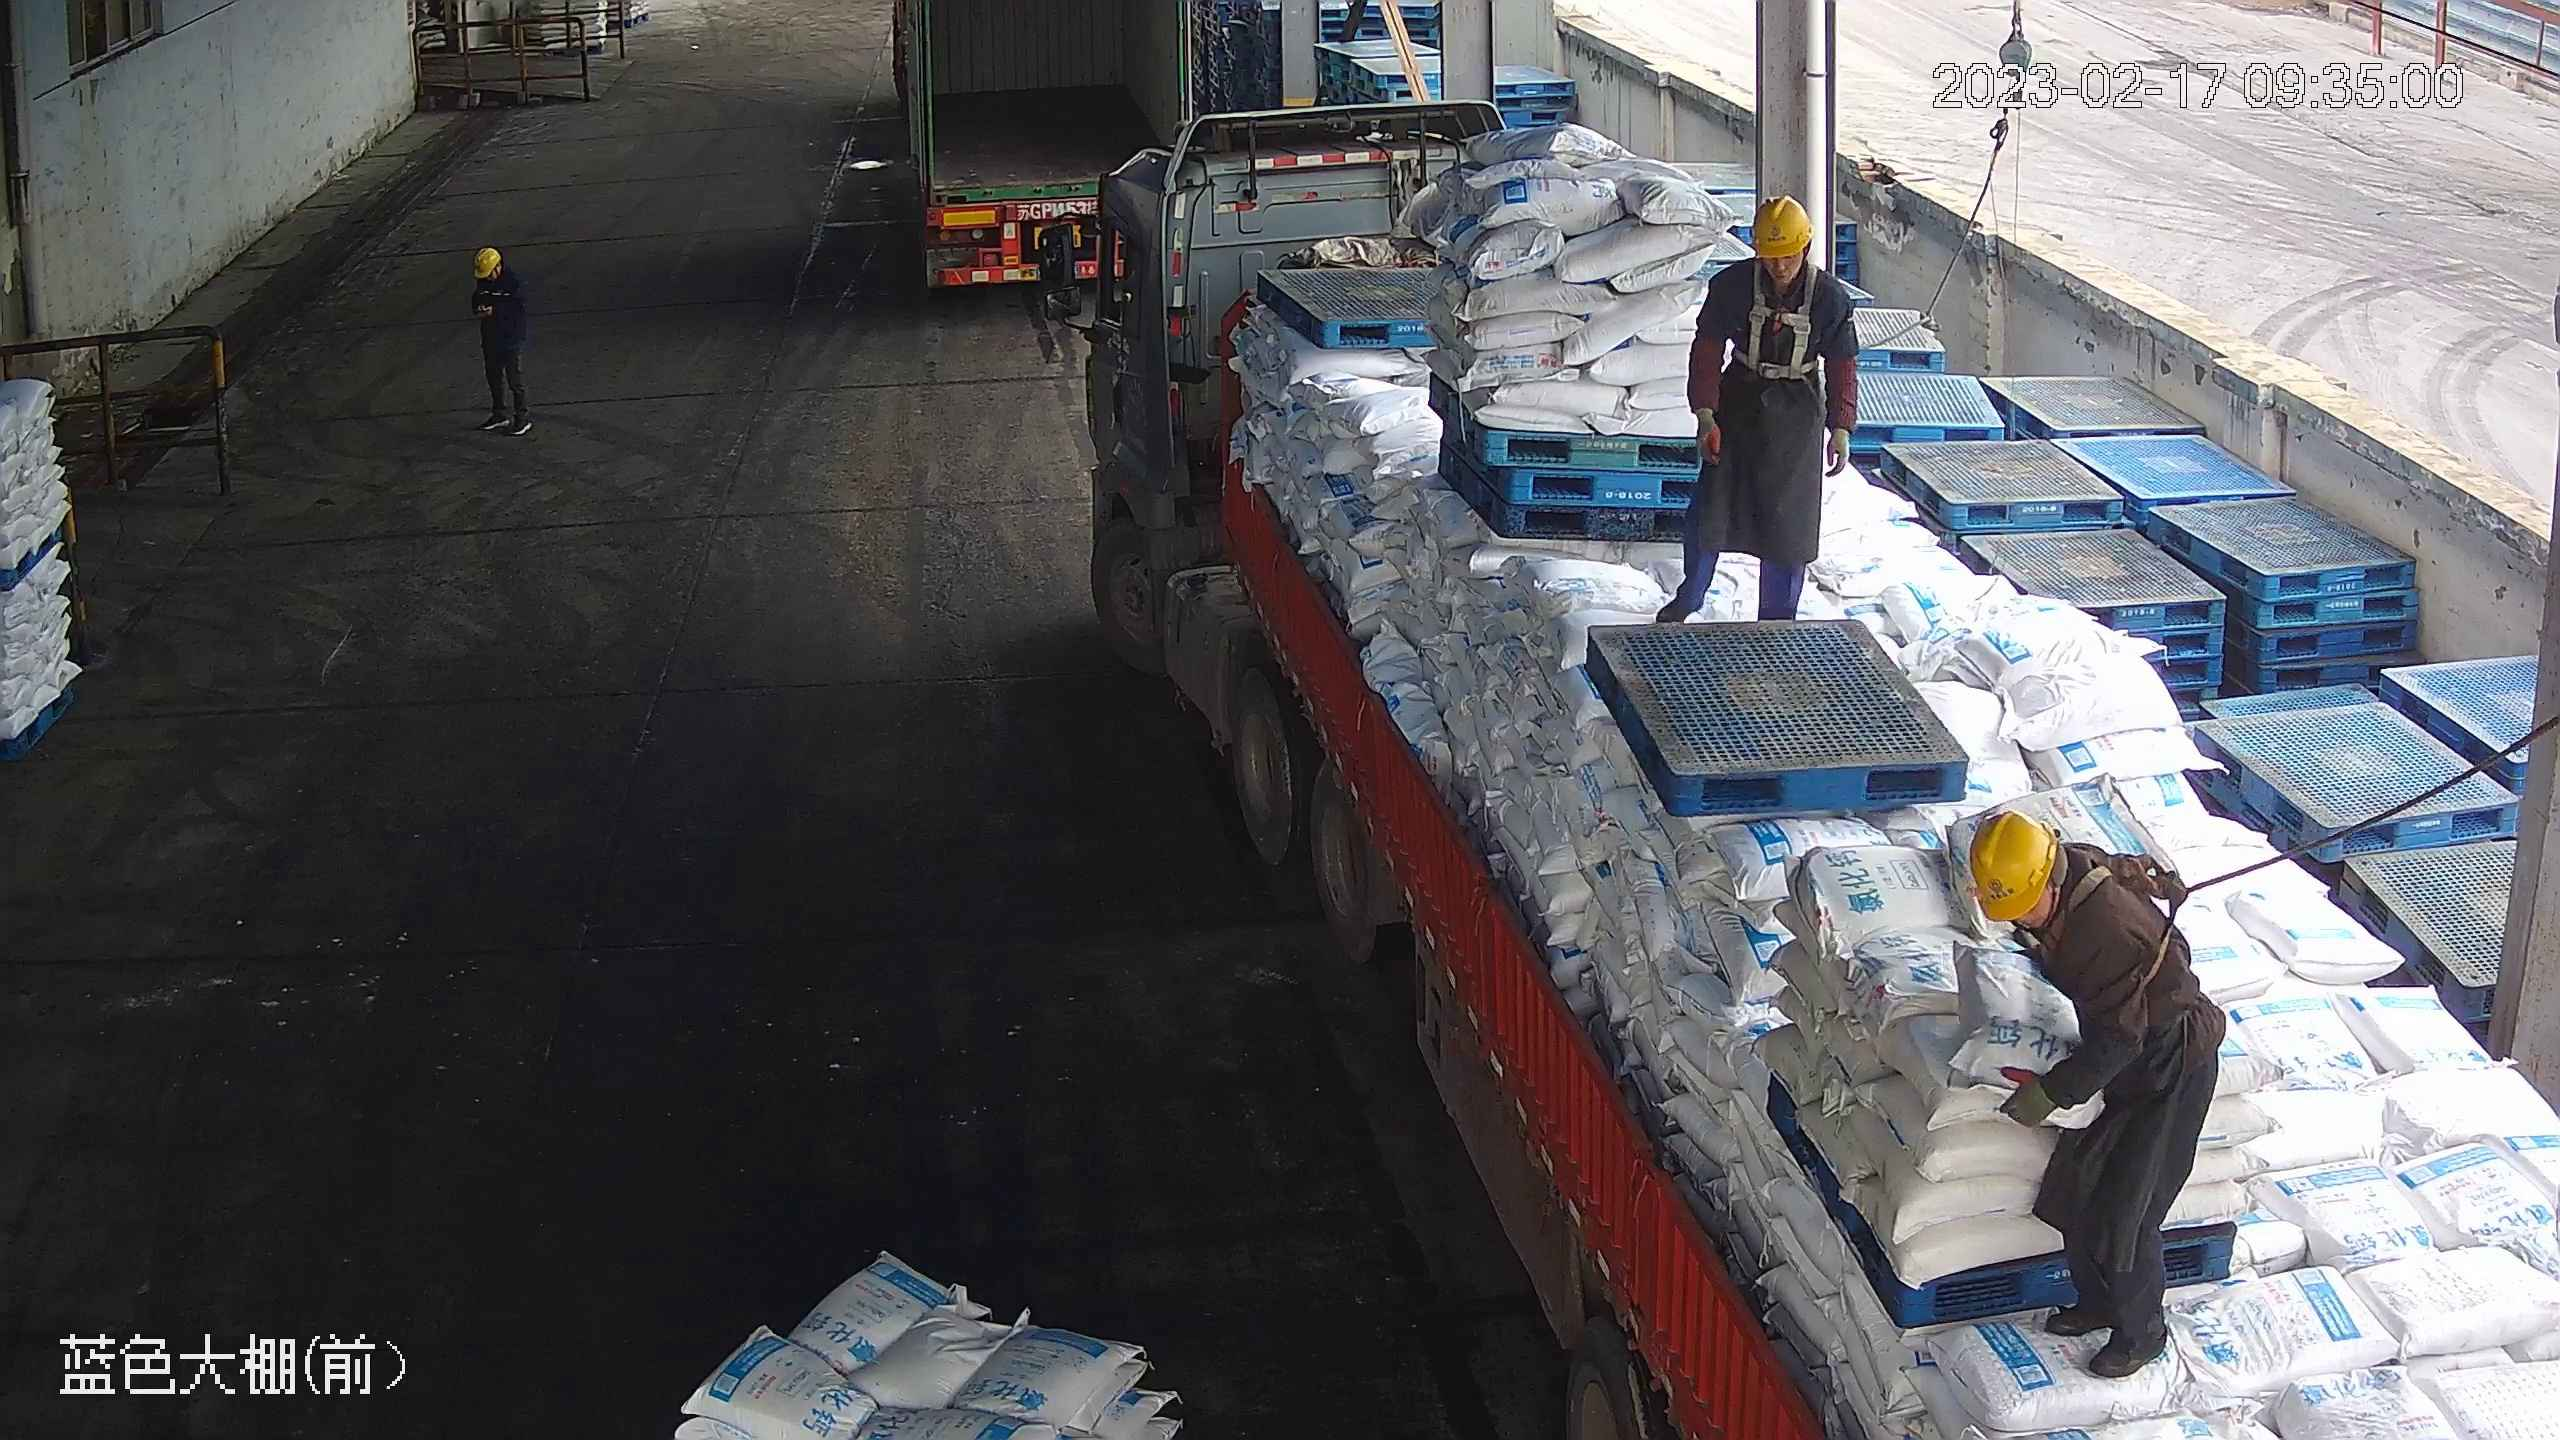belt: (2038, 846, 2188, 998), (1740, 259, 1824, 379)
head: (1966, 809, 2165, 981), (1704, 194, 1850, 319), (469, 245, 525, 301)
helmet: (1968, 808, 2058, 922), (1750, 193, 1816, 256), (471, 246, 500, 275)
people: (1963, 809, 2230, 1387), (1660, 194, 1859, 630), (469, 244, 533, 436)
truck: (1039, 97, 2556, 1438), (885, 1, 1196, 292)
